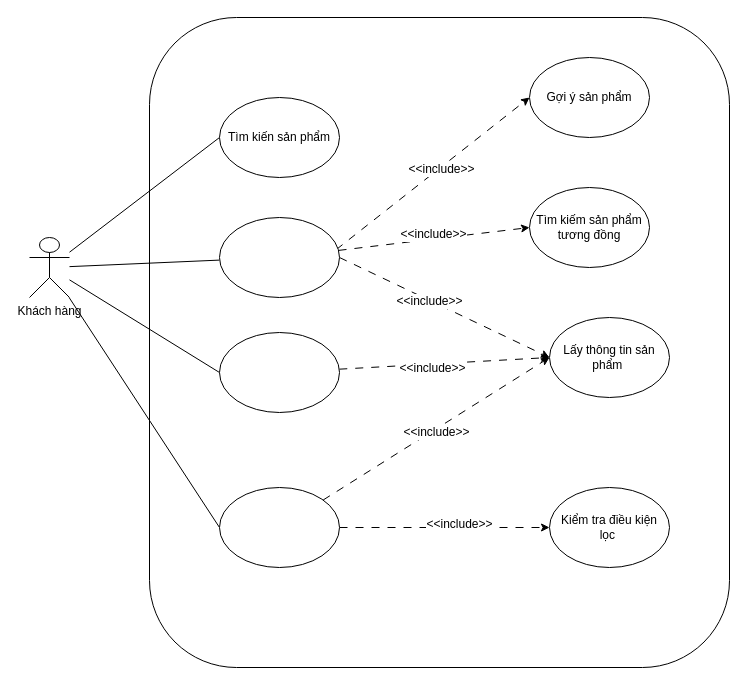
Some shapes in this 747 by 685 pixel diagram are drawn without their labels. The shapes that lost their labels are listed below. From the top down, each one's centre as x and y in pixels, then its label:
(x=279, y=257): Chat với AI assistant để nhận tư vấn
(x=279, y=372): Xem sản phẩm gợi ý
(x=279, y=527): Lọc sản phẩm
